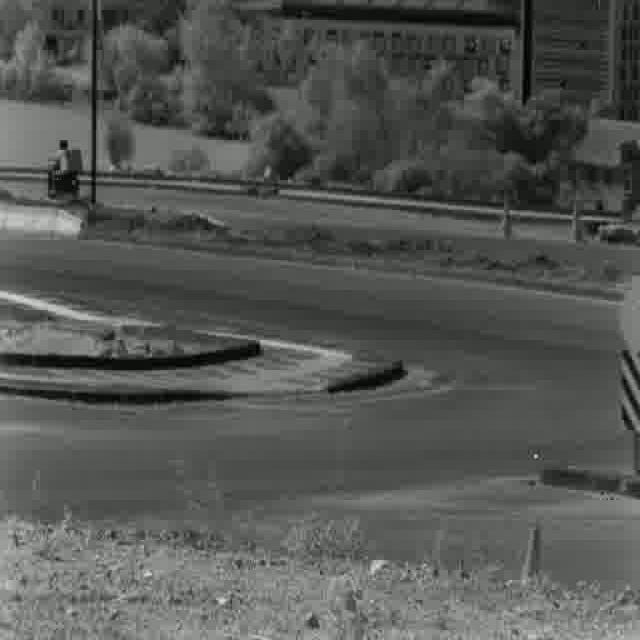Motorcycle: (48, 140, 84, 200)
